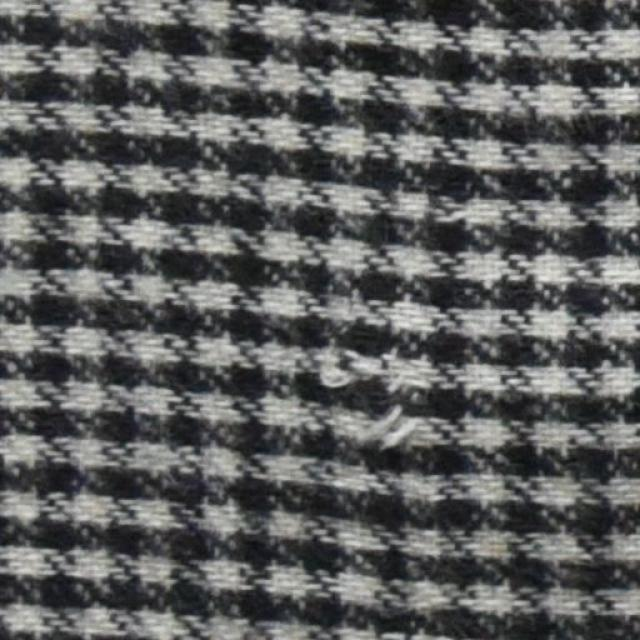Snag: (307, 326, 431, 464)
